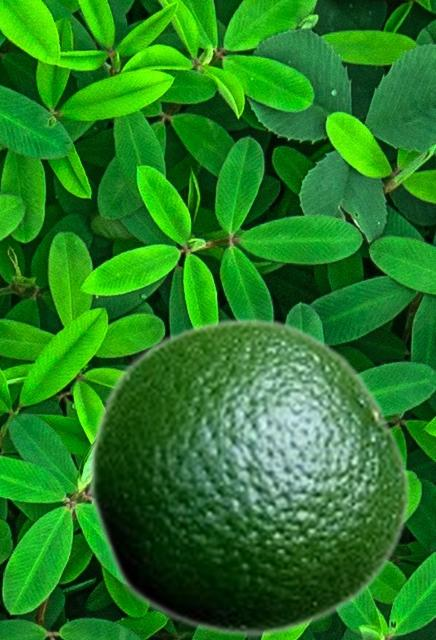calamansi: (86, 316, 411, 638)
